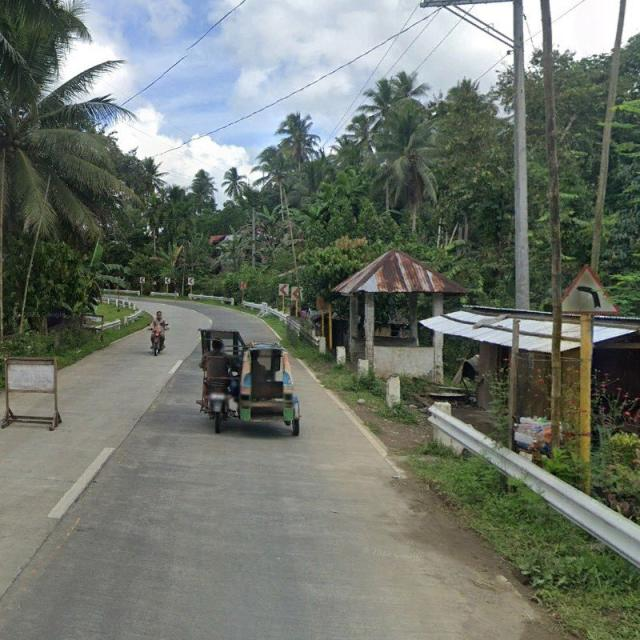warn_left_curve: (555, 264, 620, 315)
